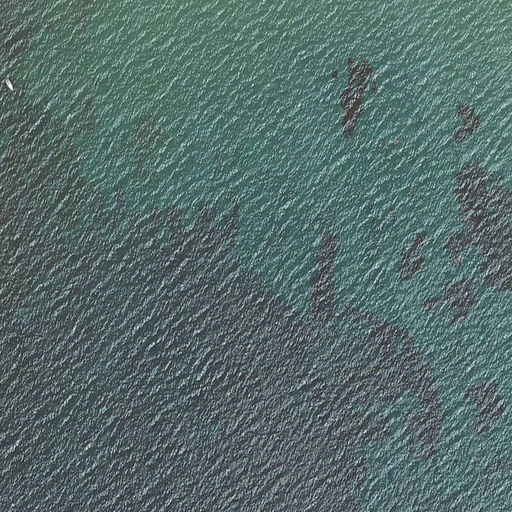ship: (3, 76, 15, 93)
